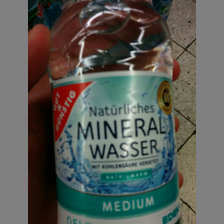water: (49, 1, 180, 224)
